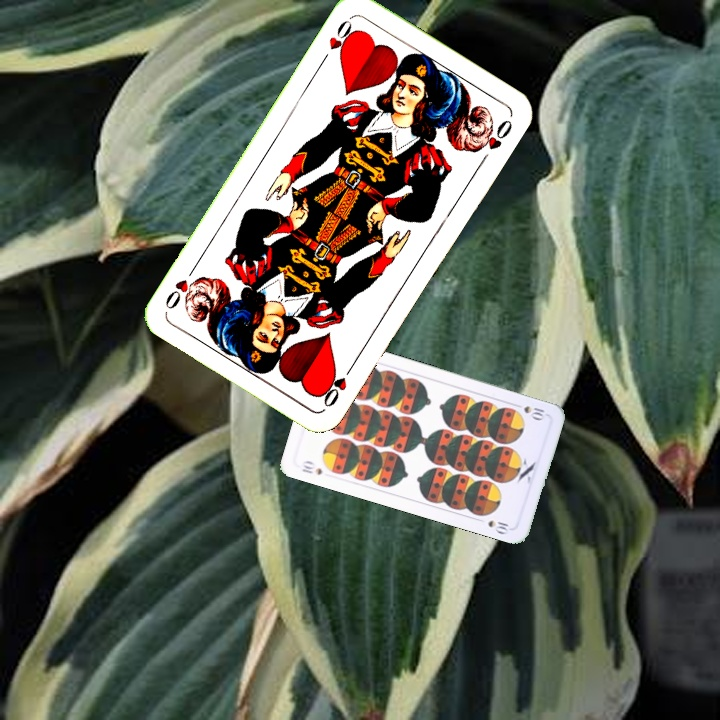HO: (316, 13, 359, 66), (317, 358, 358, 410)
S10: (510, 401, 549, 422), (297, 457, 325, 478)
